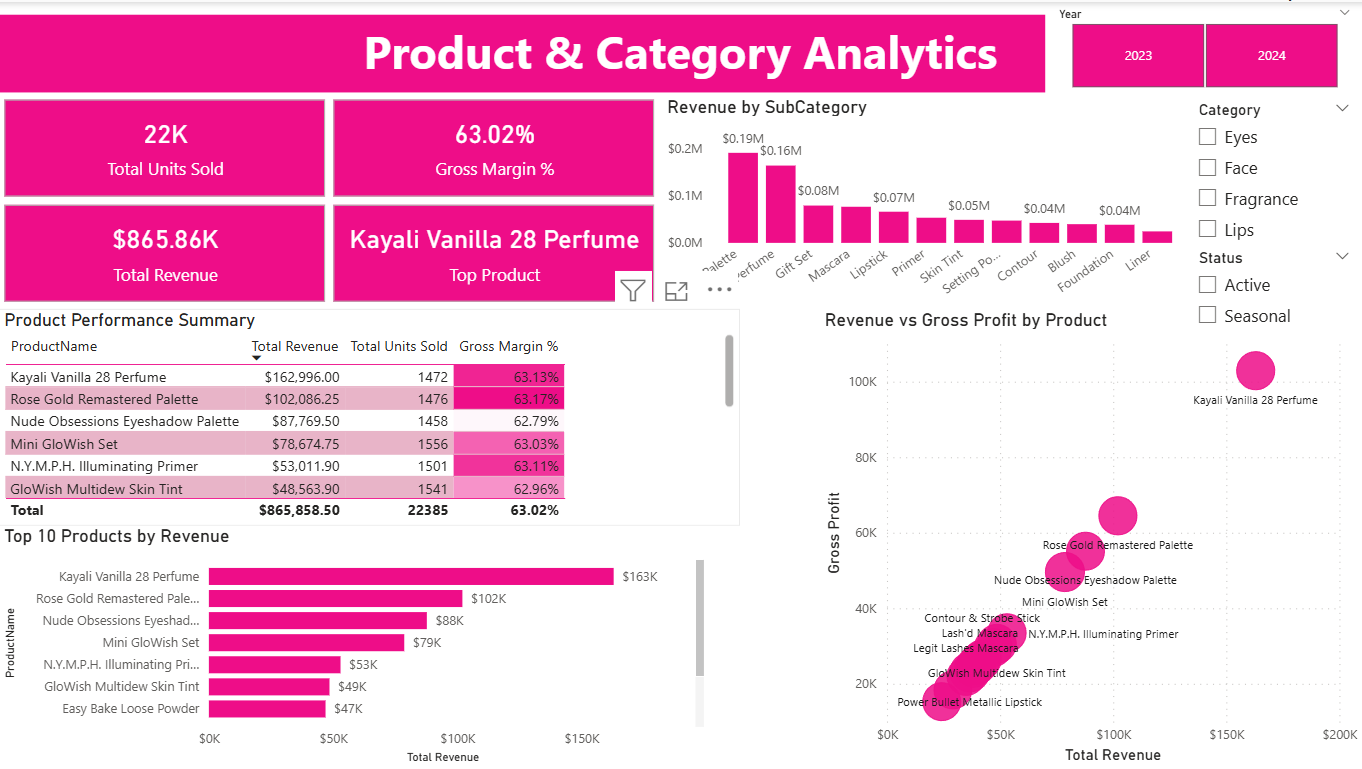

The page's visual inventory and layout, read from the dashboard file:
{"tool":"powerbi","page":{"name":"Product & Category Analytics","canvas":[1280,720],"ordinal":2},"visuals":[{"type":"textbox","box":[0,12.5,1279.2,72.9],"z":0},{"type":"cardVisual","fields":{"Data":["00_Measures.Total Units Sold","00_Measures.Gross Margin %","00_Measures.Total Revenue","00_Measures.Top Product"]},"box":[0,86.7,621.7,201.7],"z":1000},{"type":"clusteredBarChart","title":"Top 10 Products by Revenue","fields":{"Category":["DimProduct.ProductName"],"Y":["00_Measures.Total Revenue"]},"box":[0,491.7,666.7,228.3],"z":2000},{"type":"scatterChart","title":"Revenue vs Gross Profit by Product","fields":{"X":["00_Measures.Total Revenue"],"Y":["00_Measures.Gross Profit"],"Category":["DimProduct.ProductName"],"Size":["00_Measures.Total Units Sold"]},"box":[770,288.3,510,431.7],"z":3000},{"type":"clusteredColumnChart","title":"Revenue by SubCategory","fields":{"Category":["DimProduct.SubCategory"],"Y":["00_Measures.Total Revenue"]},"box":[621.7,88.3,498.3,200],"z":4000},{"type":"tableEx","title":"Product Performance Summary","fields":{"Values":["DimProduct.ProductName","00_Measures.Total Revenue","00_Measures.Total Units Sold","00_Measures.Gross Margin %"]},"box":[0,288.3,695,203.3],"z":5000},{"type":"slicer","fields":{"Values":["DimProduct.Category"]},"box":[1113.3,88.3,166.7,200],"z":6000},{"type":"slicer","fields":{"Values":["DimProduct.Status"]},"box":[1113.3,226.7,166.7,86.7],"z":7000},{"type":"slicer","fields":{"Values":["DimDate.Year"]},"box":[981.7,0,298.3,86.7],"z":8000}]}

Visuals, with their boxes in screenshot pixels (x1, y1, x2, y2), scaled from the page's 1280x720 canvas onto the 1362x769 screenshot:
textbox: x1=0, y1=13, x2=1361, y2=91
cardVisual - 00_Measures.Total Units Sold x 00_Measures.Gross Margin %: x1=0, y1=93, x2=662, y2=308
"Top 10 Products by Revenue" clusteredBarChart: x1=0, y1=525, x2=709, y2=768
"Revenue vs Gross Profit by Product" scatterChart: x1=819, y1=308, x2=1361, y2=768
"Revenue by SubCategory" clusteredColumnChart: x1=662, y1=94, x2=1192, y2=308
"Product Performance Summary" tableEx: x1=0, y1=308, x2=740, y2=525
slicer - DimProduct.Category: x1=1185, y1=94, x2=1361, y2=308
slicer - DimProduct.Status: x1=1185, y1=242, x2=1361, y2=335
slicer - DimDate.Year: x1=1045, y1=0, x2=1361, y2=93
